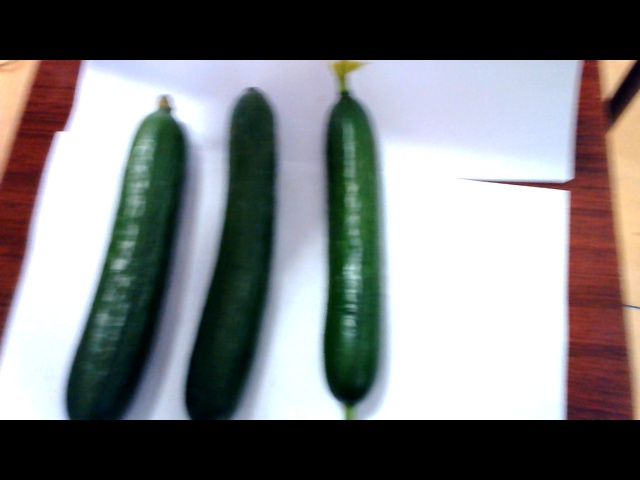cucumber: (61, 114, 184, 417), (189, 93, 286, 419), (311, 62, 390, 419)
